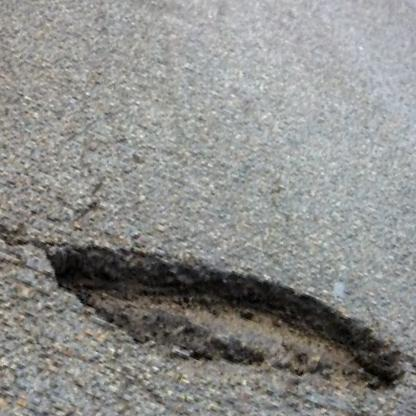pothole: (27, 193, 416, 416)
